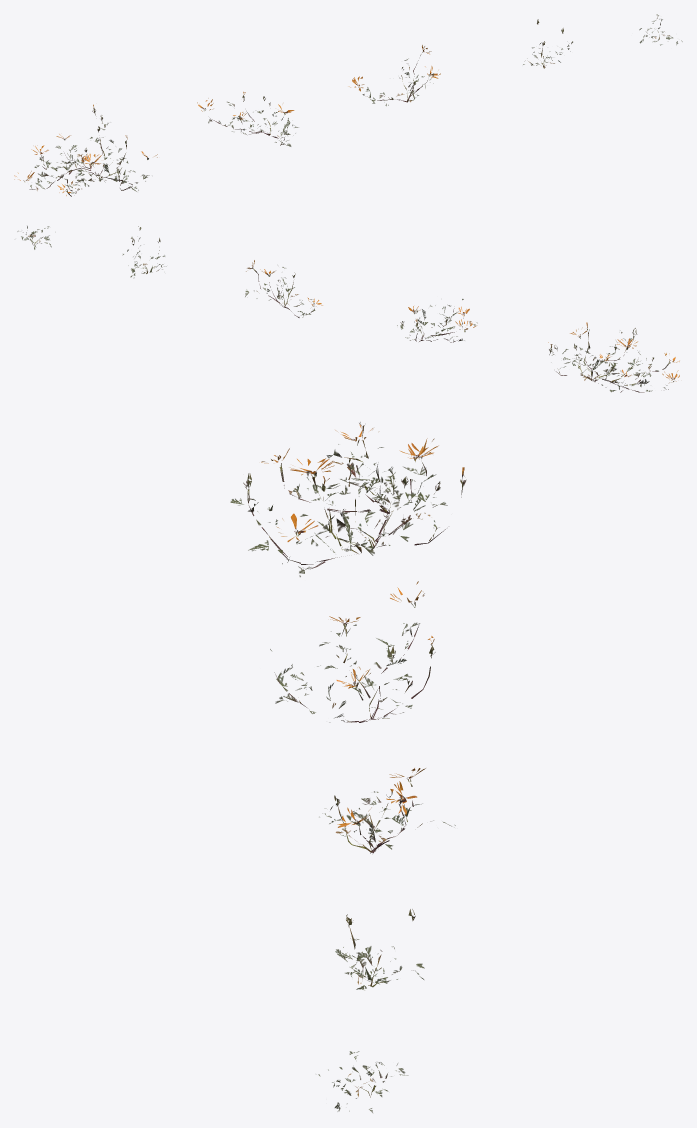
Rendered from flower_ursinia.glb.
3 views of the same model, one above another, from view 1: azimuth 30°, elevation 25°; view 2: azimuth 150°, elevation 25°; view 3: azimuth 270°, elevation 25° (orthographic). The views are drawn at different scales.
Visible parts, largest first — view 1: flower_ursinia_a_LOD0; view 2: flower_ursinia_a_LOD0; view 3: flower_ursinia_a_LOD0.
Boxes of the visible parts, x1,y1,x2,y2 form: flower_ursinia_a_LOD0: (14, 14, 682, 196); flower_ursinia_a_LOD0: (17, 226, 679, 392); flower_ursinia_a_LOD0: (230, 422, 466, 1112).
Size of the model in its own units: 2.19 by 0.1681 by 0.3385.
1 material, 1 textured.
